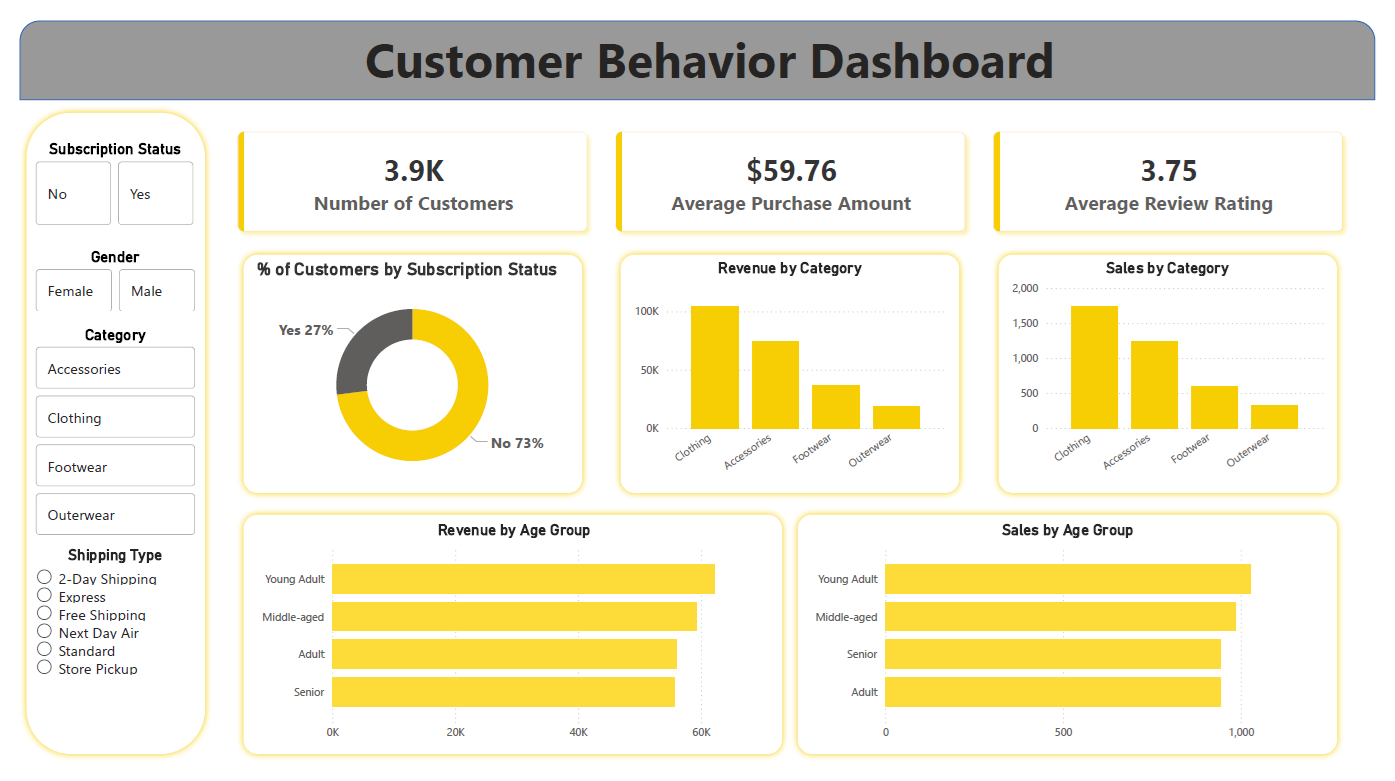

The dashboard page shown, as its layout file describes it:
{"tool":"powerbi","page":{"name":"Page 1","canvas":[1500,820],"ordinal":0},"visuals":[{"type":"cardVisual","fields":{"Data":["public customers.Number of Customers","public customers.Average Purchase Amount","public customers.Average Review Rating"]},"box":[212.8,94.1,1280.3,168.8],"z":0},{"type":"shape","box":[0,0,1500.3,88],"z":1000},{"type":"textbox","box":[27,0,1473.3,88],"z":2000},{"type":"shape","box":[239.7,251.1,390,280],"z":3000},{"type":"donutChart","title":"% of Customers by Subscription Status","fields":{"Category":["public customers.subscription_status"],"Y":["CountNonNull(public customers.customer_id)"]},"box":[258,262.8,353.4,258],"z":4000},{"type":"shape","box":[657.9,251.1,390,280],"z":5000},{"type":"shape","box":[1076.1,251.1,390,280],"z":6000},{"type":"clusteredColumnChart","title":"Revenue by Category","fields":{"Category":["public customers.category"],"Y":["Sum(public customers.purchase_amount)"]},"box":[675,262.8,354.6,258],"z":7000},{"type":"clusteredColumnChart","title":"Sales by Category","fields":{"Category":["public customers.category"],"Y":["CountNonNull(public customers.customer_id)"]},"box":[1093.2,262.8,354.6,258],"z":8000},{"type":"shape","box":[0,93.7,212.9,726.7],"z":9000},{"type":"advancedSlicerVisual","title":"Subscription Status","fields":{"Values":["public customers.subscription_status"]},"box":[12.8,132,185.9,99.4],"z":10000},{"type":"advancedSlicerVisual","title":"Gender","fields":{"Values":["public customers.gender"]},"box":[12.5,250.7,186.6,76.6],"z":11000},{"type":"advancedSlicerVisual","title":"Category","fields":{"Values":["public customers.category"]},"box":[12.5,337,186.6,239.5],"z":12000},{"type":"listSlicer","title":"Shipping Type","fields":{"Values":["public customers.shipping_type"]},"box":[12.5,580.7,186.6,196.4],"z":13000},{"type":"shape","box":[239.5,539,612.8,281.3],"z":13001},{"type":"shape","box":[853.7,539,612.8,281.3],"z":13002},{"type":"clusteredBarChart","title":"Revenue by Age Group","fields":{"Y":["Sum(public customers.purchase_amount)"],"Category":["public customers.age_group"]},"box":[257.6,552.9,579.4,253.5],"z":13003},{"type":"clusteredBarChart","title":"Sales by Age Group","fields":{"Y":["CountNonNull(public customers.customer_id)"],"Category":["public customers.age_group"]},"box":[870.4,552.9,579.4,253.5],"z":13004}]}

Visuals, with their boxes in screenshot pixels (x1, y1, x2, y2), scaled from the page's 1500x820 canvas onto the 1395x781 screenshot:
cardVisual - public customers.Number of Customers x public customers.Average Purchase Amount: bbox=(198, 90, 1389, 250)
shape: bbox=(0, 0, 1394, 84)
textbox: bbox=(25, 0, 1394, 84)
shape: bbox=(223, 239, 586, 506)
"% of Customers by Subscription Status" donutChart: bbox=(240, 250, 569, 496)
shape: bbox=(612, 239, 975, 506)
shape: bbox=(1001, 239, 1363, 506)
"Revenue by Category" clusteredColumnChart: bbox=(628, 250, 958, 496)
"Sales by Category" clusteredColumnChart: bbox=(1017, 250, 1346, 496)
shape: bbox=(0, 89, 198, 780)
"Subscription Status" advancedSlicerVisual: bbox=(12, 126, 185, 220)
"Gender" advancedSlicerVisual: bbox=(12, 239, 185, 312)
"Category" advancedSlicerVisual: bbox=(12, 321, 185, 549)
"Shipping Type" listSlicer: bbox=(12, 553, 185, 740)
shape: bbox=(223, 513, 793, 780)
shape: bbox=(794, 513, 1364, 780)
"Revenue by Age Group" clusteredBarChart: bbox=(240, 527, 778, 768)
"Sales by Age Group" clusteredBarChart: bbox=(809, 527, 1348, 768)
